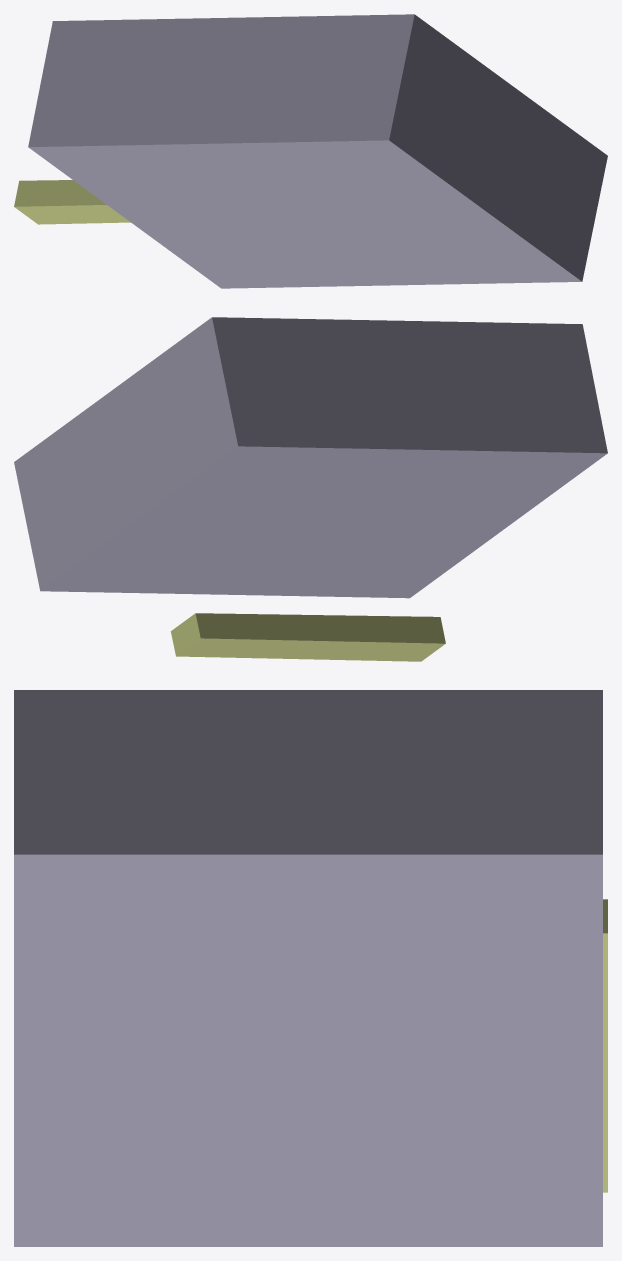
3 renders of one model, top to bottom at view 1: azimuth 30°, elevation 25°; view 2: azimuth 150°, elevation 25°; view 3: azimuth 270°, elevation 25°, orthographic. The views are drawn at different scales.
Visible parts, largest first — view 1: 0_0_1_2_3_0_3_0_2; view 2: 0_0_1_2_3_0_3_0_2; view 3: 0_0_1_2_3_0_3_0_2.
Boxes of the visible parts, box(x1,y1,x2,y2) form: 0_0_1_2_3_0_3_0_2: box(14, 14, 607, 288); 0_0_1_2_3_0_3_0_2: box(14, 317, 607, 661); 0_0_1_2_3_0_3_0_2: box(14, 690, 607, 1246).
Bounding box in the file's own units: 57.23 × 31.67 × 48.4.
